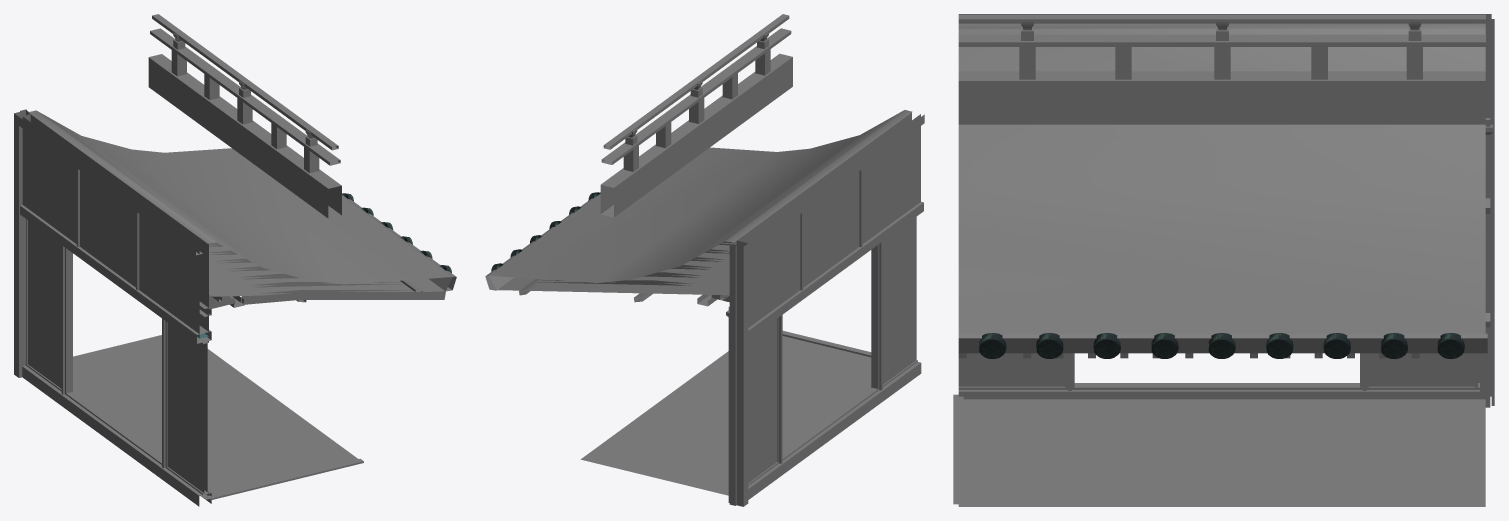
The model's file is FL2_Exterior_Door.fbx.
The picture shows the model from 3 angles, left to right: view 1: azimuth 30°, elevation 25°; view 2: azimuth 150°, elevation 25°; view 3: azimuth 270°, elevation 25°; orthographic projection. The views are drawn at different scales.
Parts seen in each view (by area): view 1: FL2_Exterior_Door; view 2: FL2_Exterior_Door; view 3: FL2_Exterior_Door.
Part boxes in pixels (x1=…): FL2_Exterior_Door: x1=14, y1=14, x2=456, y2=506; FL2_Exterior_Door: x1=485, y1=14, x2=924, y2=506; FL2_Exterior_Door: x1=953, y1=14, x2=1494, y2=506.
Bounding box in the file's own units: 425 × 502 × 513.
